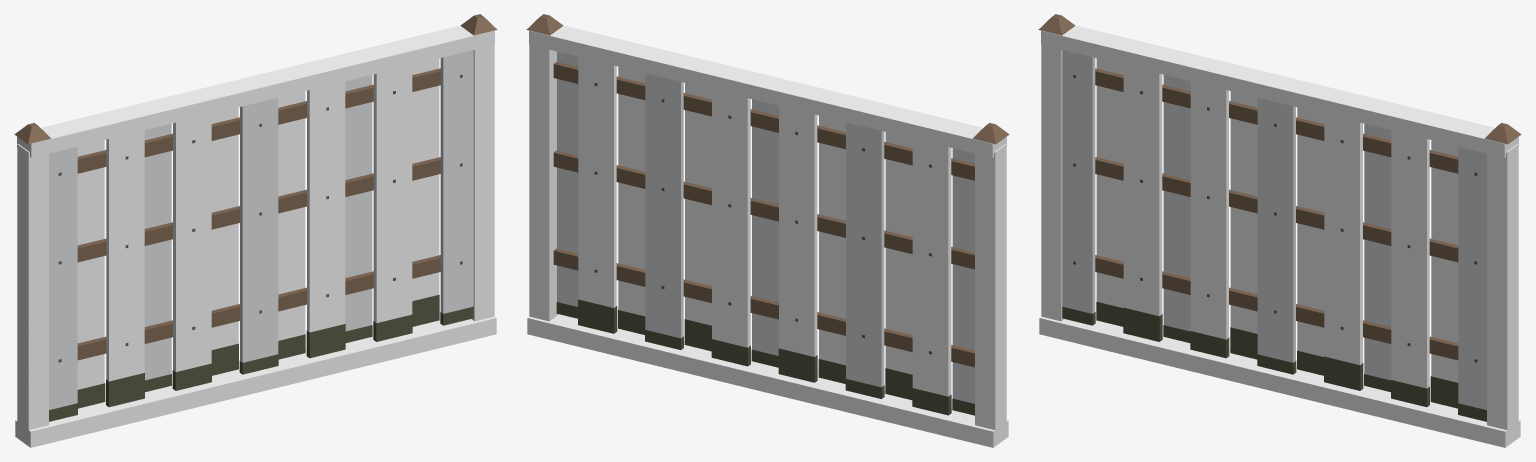
Rendered from fence_wood.glb.
3 views of the same model, side by side, from view 1: azimuth 30°, elevation 25°; view 2: azimuth 150°, elevation 25°; view 3: azimuth 330°, elevation 25° (orthographic).
Visible parts, largest first — view 1: fence_wood_body; view 2: fence_wood_body; view 3: fence_wood_body.
Boxes of the visible parts, bbox=[...] form: fence_wood_body: bbox=[14, 14, 497, 447]; fence_wood_body: bbox=[526, 14, 1009, 447]; fence_wood_body: bbox=[1038, 14, 1521, 447].
Size of what is drawn, in the model's own units: 2.11 by 1.35 by 0.12.
